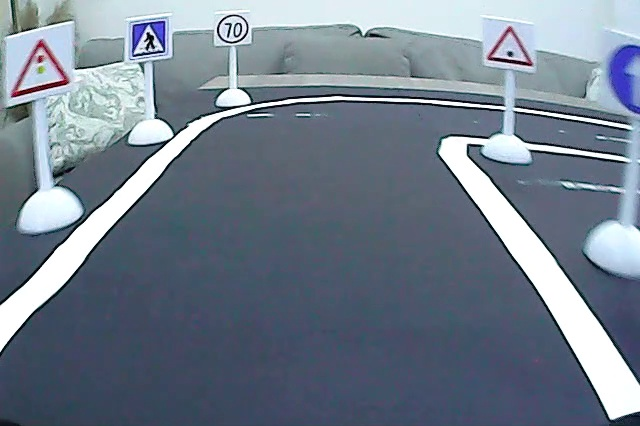green light: (482, 20, 536, 70)
pedestrian crossing: (130, 16, 170, 62)
red light: (10, 35, 71, 99)
speed limit 70: (214, 13, 252, 46)
